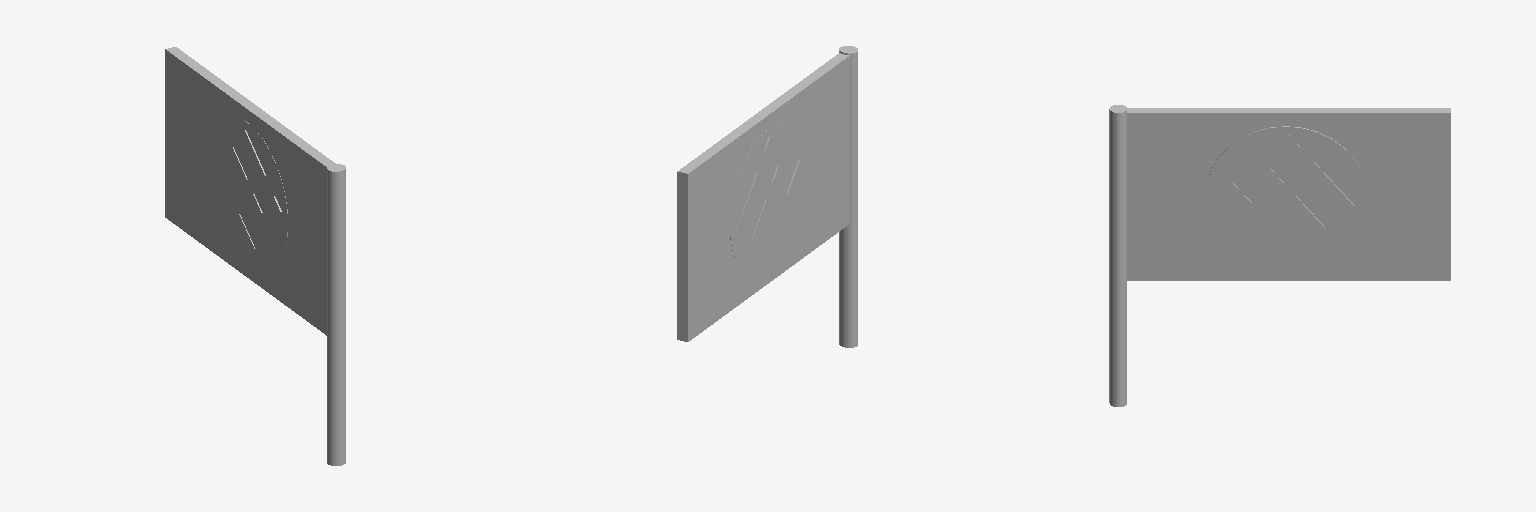
File: Nazi.obj
The picture shows the model from 3 angles: view 1: azimuth 30°, elevation 25°; view 2: azimuth 150°, elevation 25°; view 3: azimuth 270°, elevation 25°; orthographic projection.
Parts seen in each view (by area): view 1: Cube, Cube.002, Cylinder, Cube.001; view 2: Cube, Cube.002, Cylinder, Cube.001; view 3: Cube, Cube.002, Cube.001, Cylinder.
Part boxes in pixels (left/top/right/bottom): Cube: left=165, top=47, right=335, bottom=335; Cube.002: left=207, top=117, right=287, bottom=270; Cylinder: left=327, top=164, right=345, bottom=465; Cube.001: left=213, top=121, right=287, bottom=268; Cube: left=677, top=53, right=849, bottom=341; Cube.002: left=730, top=121, right=810, bottom=274; Cylinder: left=839, top=46, right=857, bottom=347; Cube.001: left=730, top=121, right=806, bottom=267; Cube: left=1127, top=108, right=1450, bottom=280; Cube.002: left=1205, top=127, right=1366, bottom=268; Cube.001: left=1209, top=126, right=1366, bottom=260; Cylinder: left=1109, top=105, right=1126, bottom=406.
Size of the model in its own units: 0.3825 by 6.27 by 6.58.